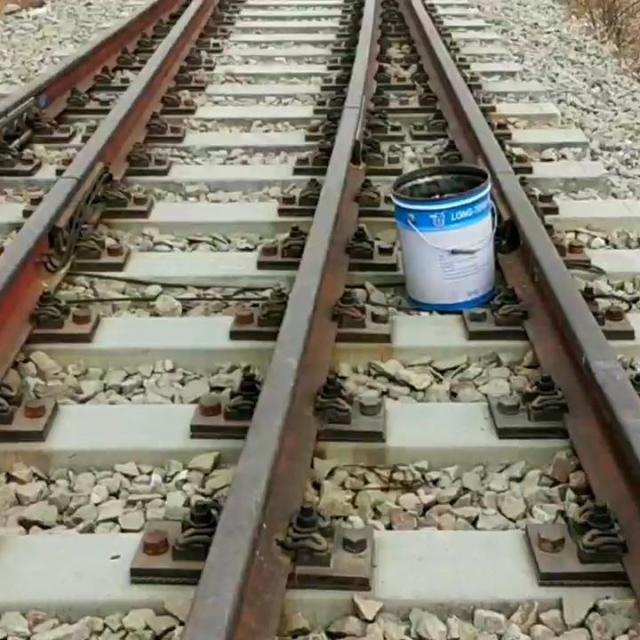danger: (384, 154, 511, 322)
rail: (401, 0, 640, 592), (185, 0, 377, 640), (0, 0, 184, 118)
